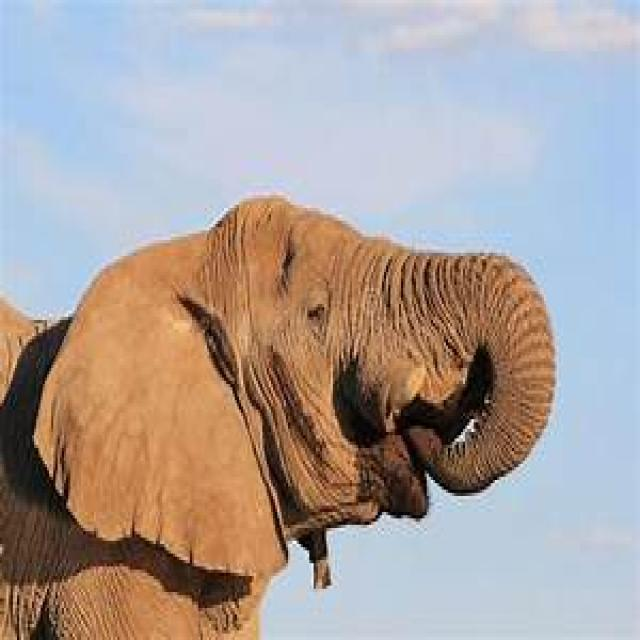elephant: (0, 195, 559, 640)
